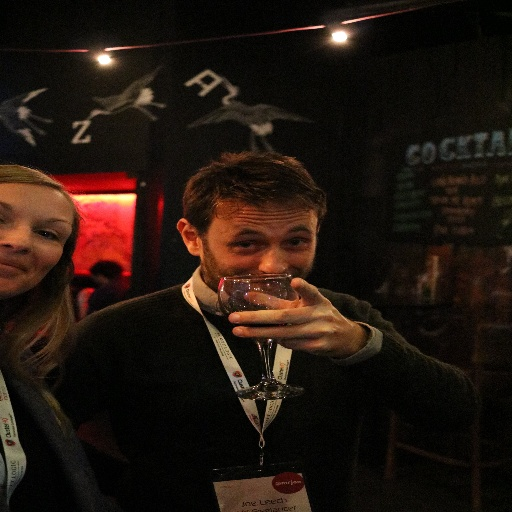hand: (233, 281, 385, 363)
